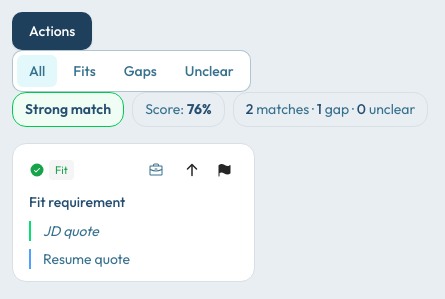
Test case: MatchTabContent › does not show View resume when match has no resumeId
Click the button "Actions" at (52, 31), box left=12, top=12, right=92, bottom=50
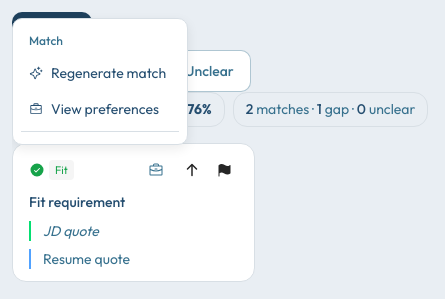
Expected: the menu item "View preferences" is shown, left=29, top=100, right=159, bottom=118
